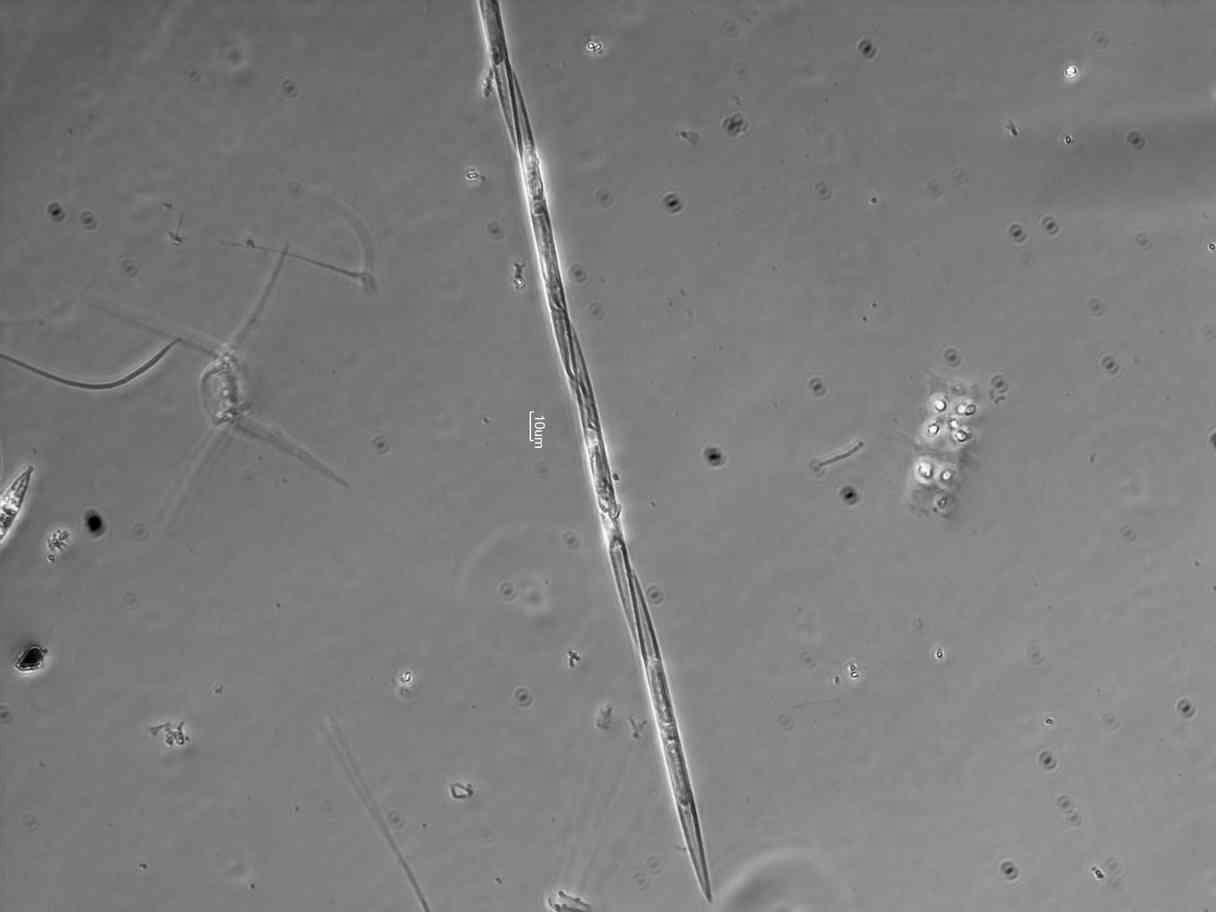pseudo_nitzschia: (477, 1, 710, 911)
